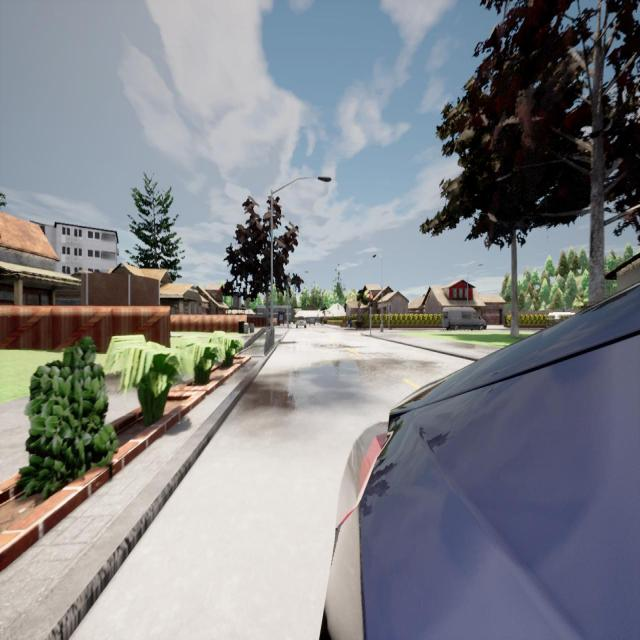Vehicle: (320, 284, 640, 640), (441, 305, 488, 333), (294, 314, 309, 329)
traffic_light: (369, 294, 373, 307)
